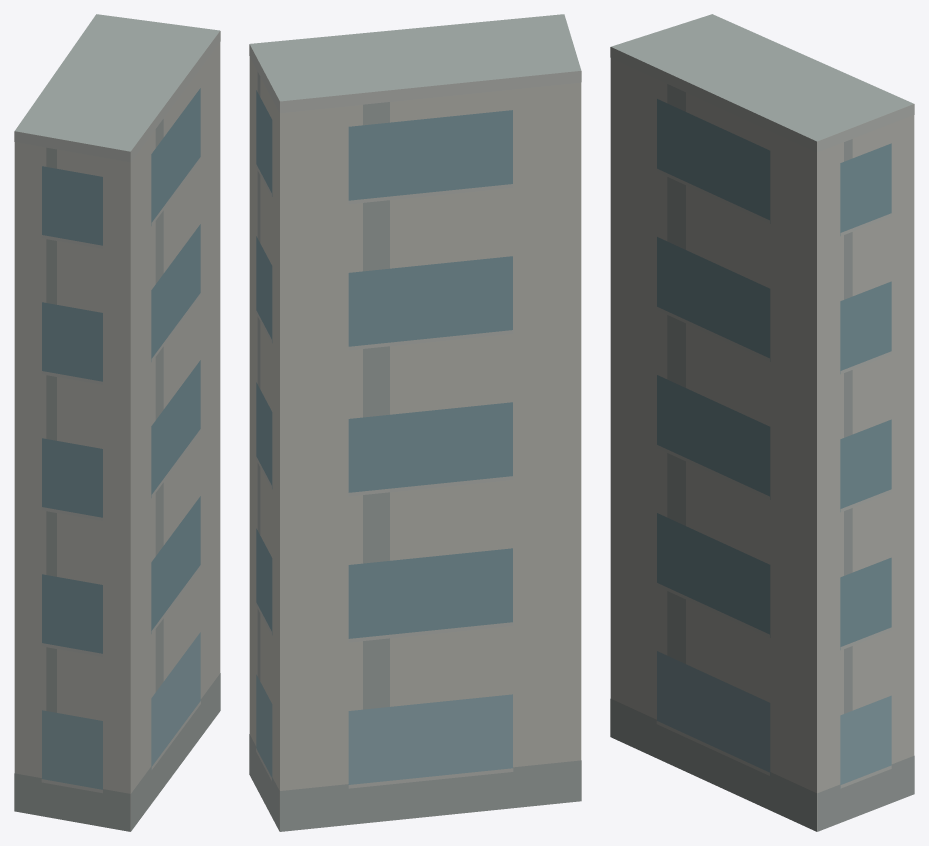
The model's file is survey-upis-32782698.glb.
3 views of the same model, side by side, from view 1: azimuth 30°, elevation 25°; view 2: azimuth 150°, elevation 25°; view 3: azimuth 270°, elevation 25° (orthographic). The views are drawn at different scales.
Visible parts, largest first — view 1: survey-upis-32782698.tmp; view 2: survey-upis-32782698.tmp; view 3: survey-upis-32782698.tmp.
Boxes of the visible parts, x1,y1,x2,y2 form: survey-upis-32782698.tmp: (14,14,220,831); survey-upis-32782698.tmp: (249,14,581,831); survey-upis-32782698.tmp: (610,14,914,831).
Bounding box in the file's own units: 6.05 × 15.25 × 6.09.
